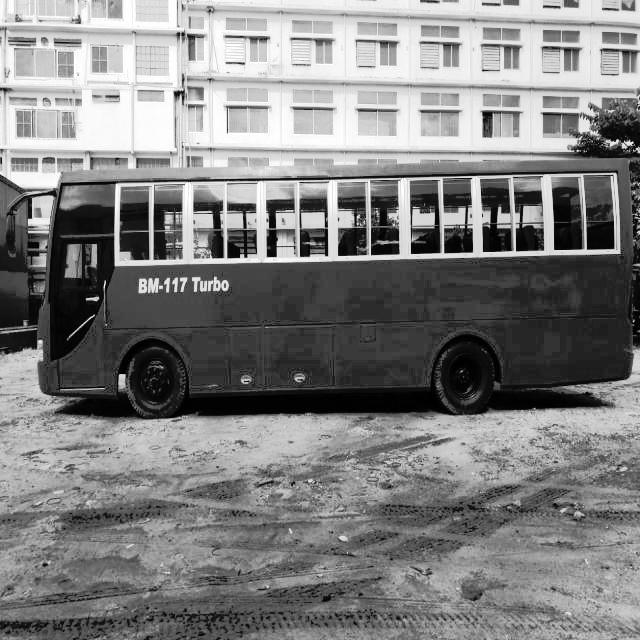Bus: (0, 147, 640, 461)
